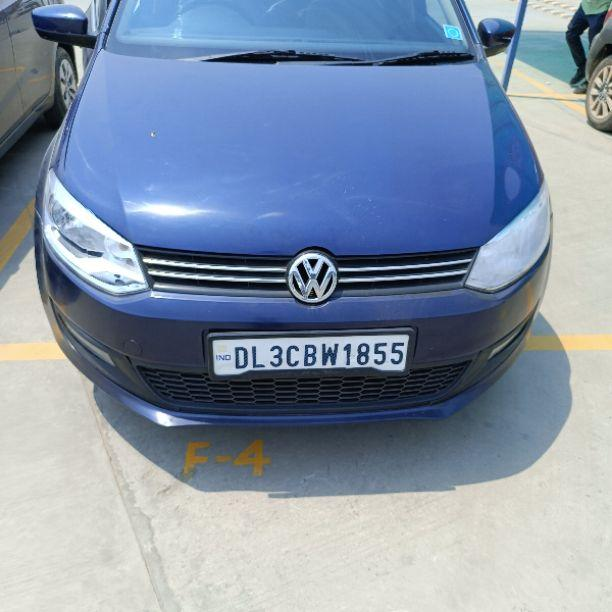license_plate: (204, 327, 415, 380)
